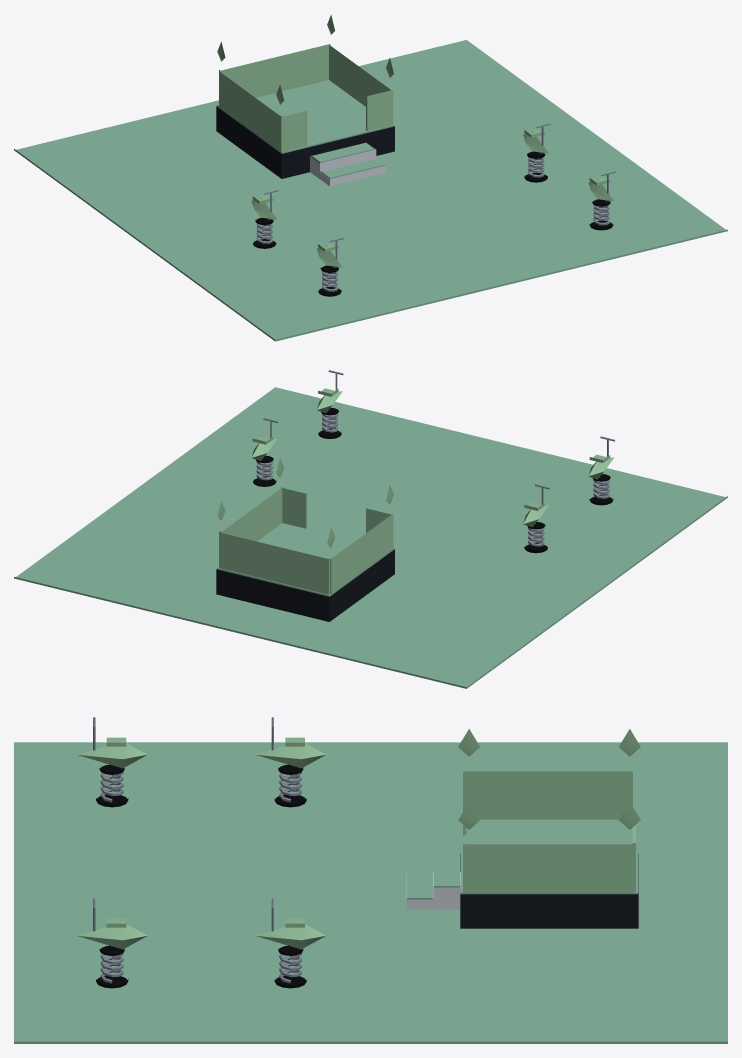
The picture shows the model from 3 angles, top to bottom: view 1: azimuth 30°, elevation 25°; view 2: azimuth 150°, elevation 25°; view 3: azimuth 270°, elevation 25°; orthographic projection. The views are drawn at different scales.
Visible parts, largest first — view 1: Safety_Pad, Deck_Guards, Deck_Top, Toddler_Deck, Deck_Steps, Step_Treads; view 2: Safety_Pad, Deck_Guards, Toddler_Deck, Deck_Top; view 3: Safety_Pad, Deck_Guards, Toddler_Deck, Deck_Top, Step_Treads, Leaf_Crests, Deck_Steps, Rider1_Body, Rider4_Body, Rider2_Body, Rider3_Body.
Boxes of the visible parts, x1,y1,x2,y2 form: Safety_Pad: (14,40,727,341); Deck_Guards: (219,44,393,151); Deck_Top: (217,80,394,153); Toddler_Deck: (216,106,394,178); Deck_Steps: (310,149,385,186); Step_Treads: (310,142,385,178); Safety_Pad: (14,387,727,688); Deck_Guards: (219,487,393,594); Toddler_Deck: (216,549,394,621); Deck_Top: (217,523,394,596); Safety_Pad: (14,742,727,1043); Deck_Guards: (463,771,635,892); Toddler_Deck: (460,853,638,928); Deck_Top: (460,819,638,894); Step_Treads: (407,850,459,899); Leaf_Crests: (458,729,640,829); Deck_Steps: (406,872,460,909); Rider1_Body: (255,741,325,768); Rider4_Body: (77,922,147,949); Rider2_Body: (255,922,325,949); Rider3_Body: (77,741,147,768).
Size of what is drawn, in the model's own units: 8 by 1.58 by 8.
Materials: 7 (4 with a texture image).
